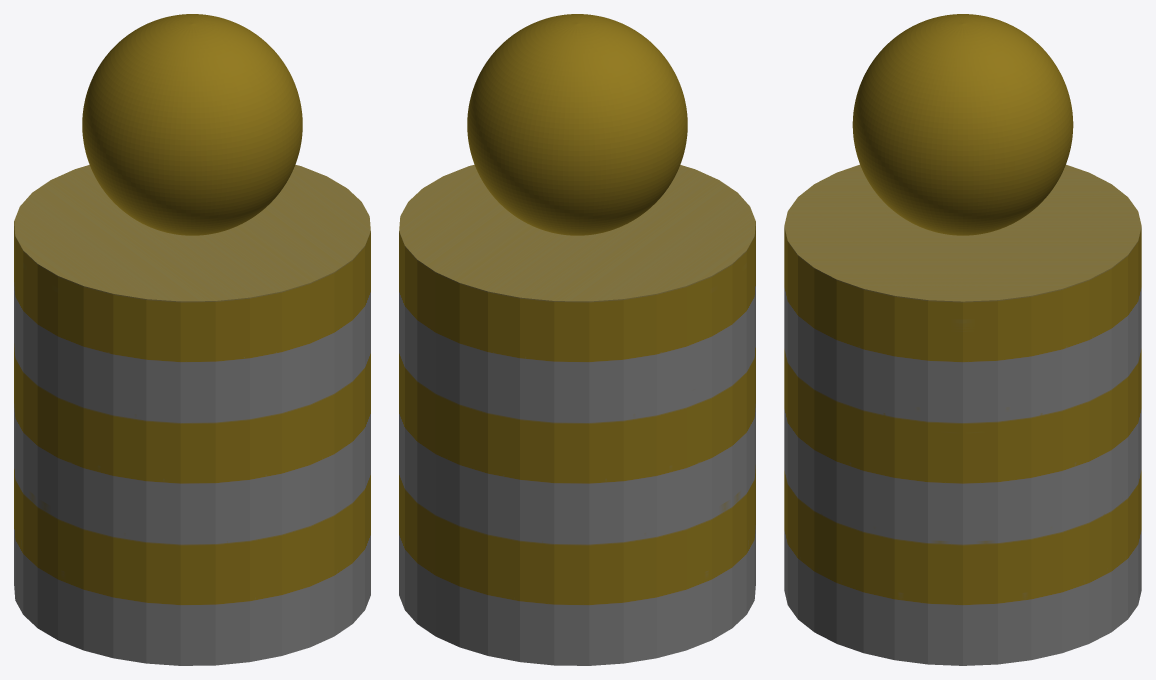
File: BOD5_BMC4_BCC0_BPT2_FRC0_HEA0_HMC4_HCC0_HPT0_ELT0_ERT0_ELL0_ERL0_AP0_AAL0_AAR0_BEK0.fbx
3 renders of one model, left to right at view 1: azimuth 30°, elevation 25°; view 2: azimuth 150°, elevation 25°; view 3: azimuth 270°, elevation 25°, orthographic.
Parts seen in each view (by area): view 1: Body, Head; view 2: Body, Head; view 3: Body, Head.
Part boxes in pixels (left/top/right/bottom): Body: left=14, top=164, right=370, bottom=665; Head: left=82, top=14, right=302, bottom=235; Body: left=399, top=164, right=755, bottom=665; Head: left=467, top=14, right=687, bottom=235; Body: left=784, top=164, right=1141, bottom=665; Head: left=852, top=14, right=1073, bottom=235.
Size of the model in its own units: 80 by 140 by 80.
Materials: 2 (2 with a texture image).
